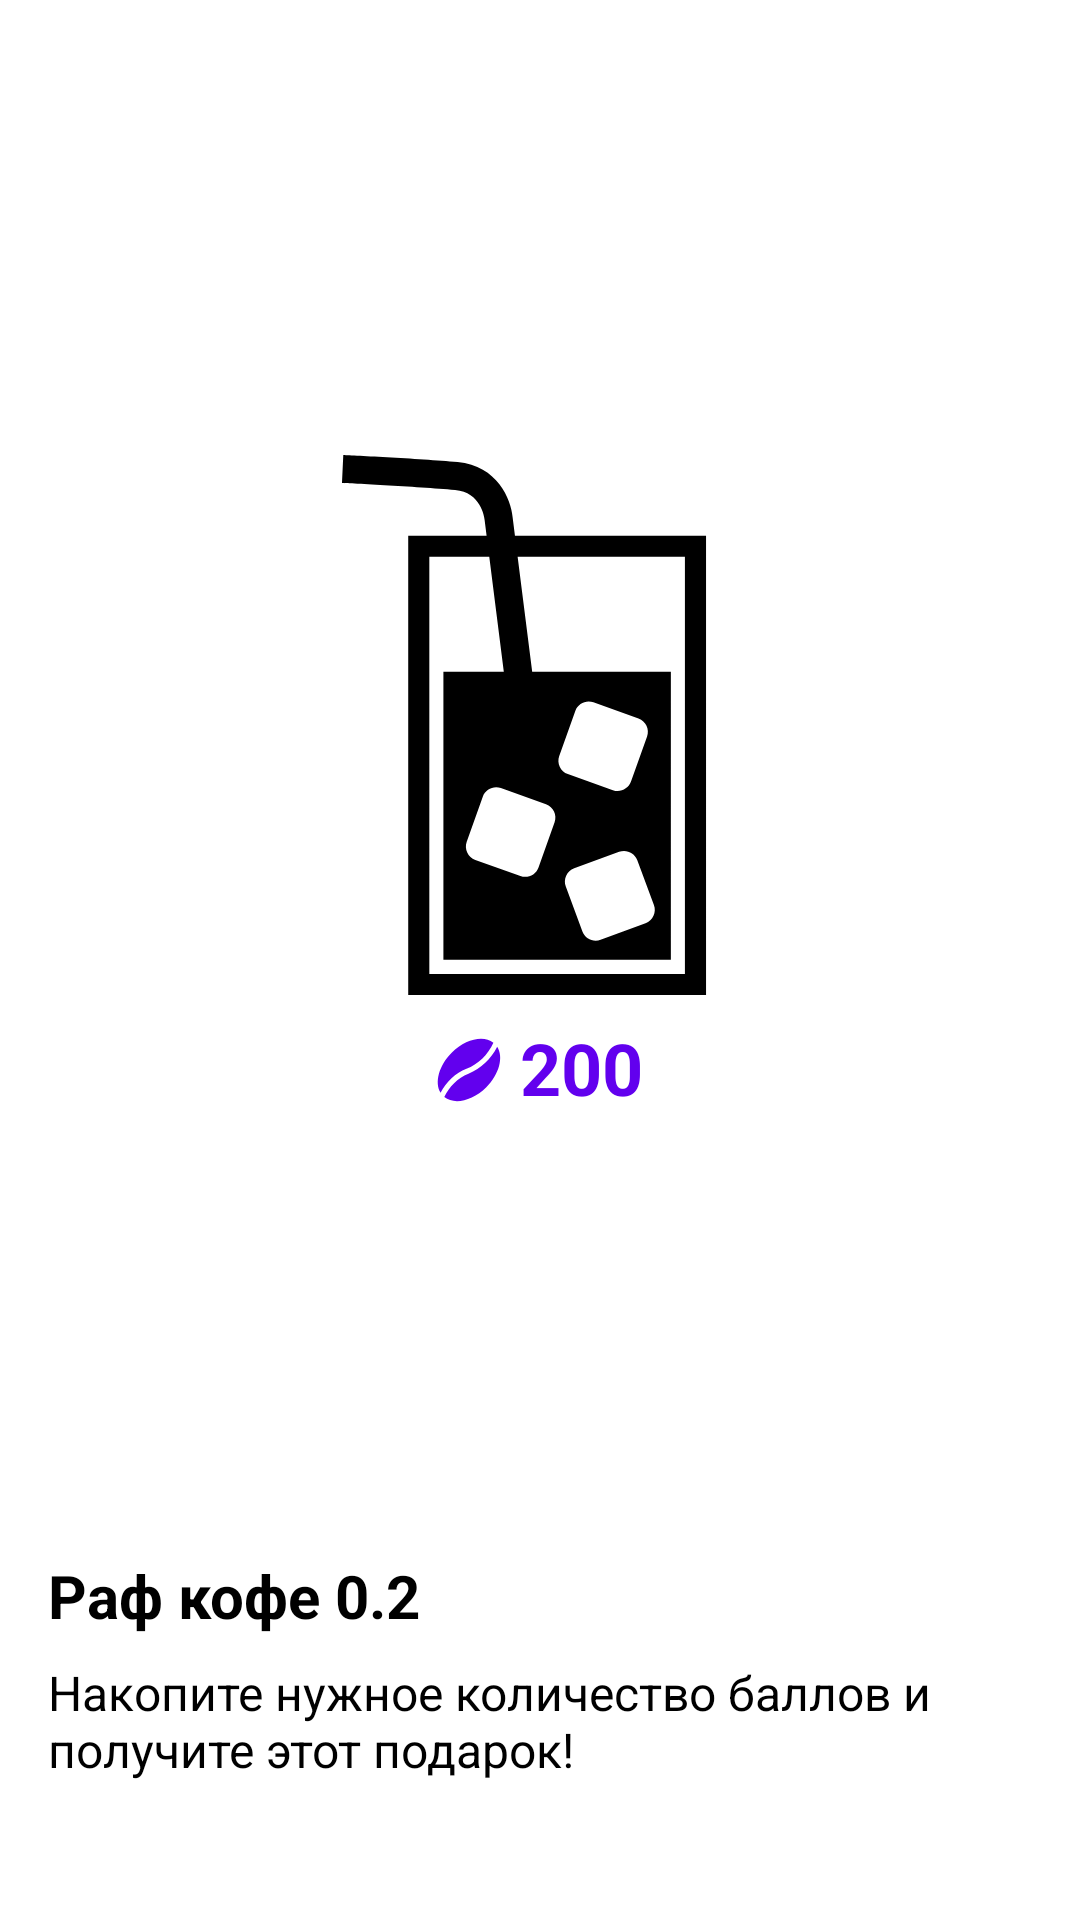

Named icons in this screenshot (1080 x 1920) and their bounding boxes, [x1=x1, y1=y1, x2=x2, y2=y2]:
coffee: [x1=437, y1=1038, x2=501, y2=1102]
